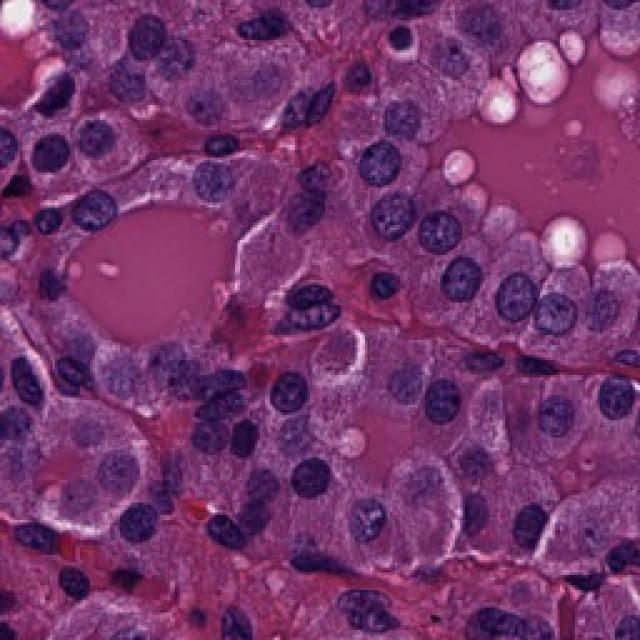abnormal: (400, 0, 515, 90), (122, 7, 220, 108), (262, 268, 353, 348), (390, 190, 478, 265), (67, 163, 135, 257), (242, 354, 325, 429), (352, 174, 423, 258), (527, 267, 597, 350), (565, 358, 640, 435), (179, 140, 244, 227), (5, 328, 63, 425), (427, 231, 485, 326), (328, 488, 408, 555), (108, 485, 177, 560), (338, 576, 418, 640), (333, 133, 423, 187), (173, 67, 242, 137), (526, 372, 582, 455), (258, 410, 330, 468), (417, 367, 473, 440), (485, 265, 533, 348)
